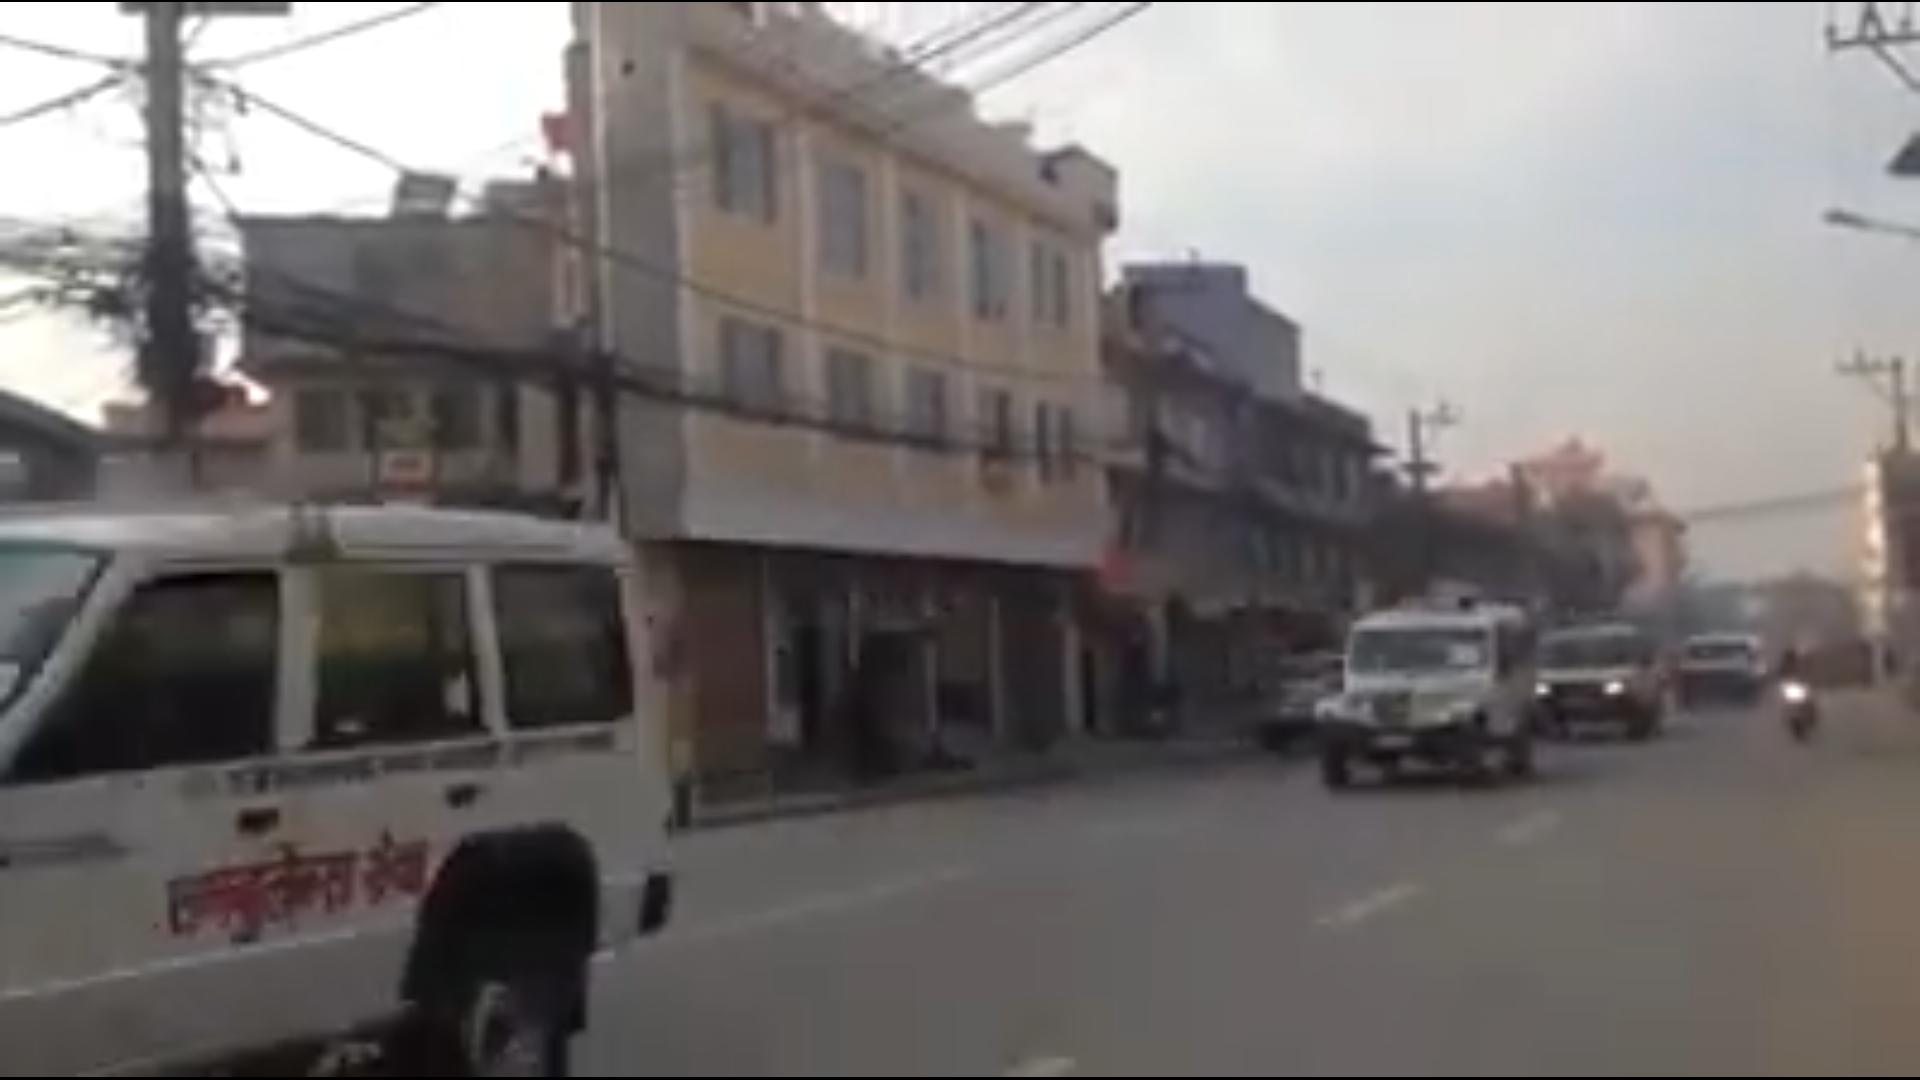ambulance: (0, 477, 693, 1080), (1297, 585, 1542, 783)
